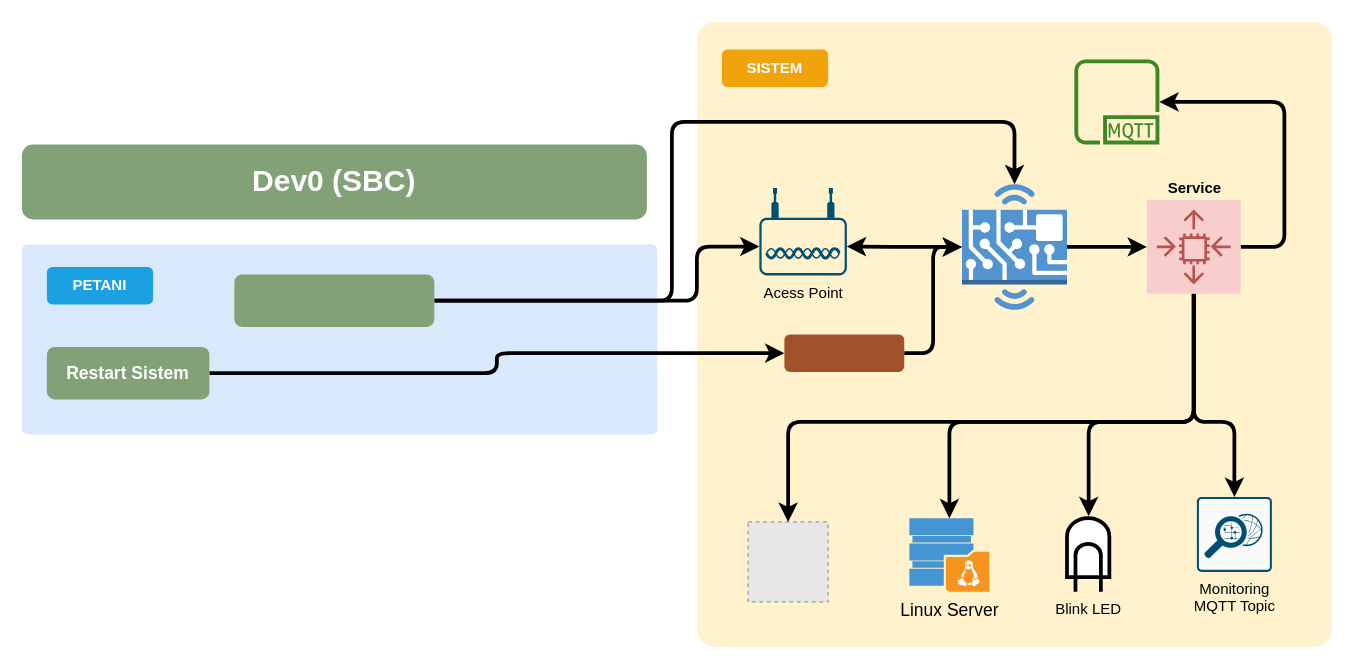
Some shapes in this 1354 by 668 pixel diagram are drawn without their labels. Grey dashed boxes stand in for pictures. Each missing label, with the box of its shape:
Broker: (1074, 59, 1159, 144)
Mengaktifka Sistem: (234, 274, 434, 326)
Pin: RST: (784, 334, 904, 371)
SBC: (961, 183, 1067, 310)
